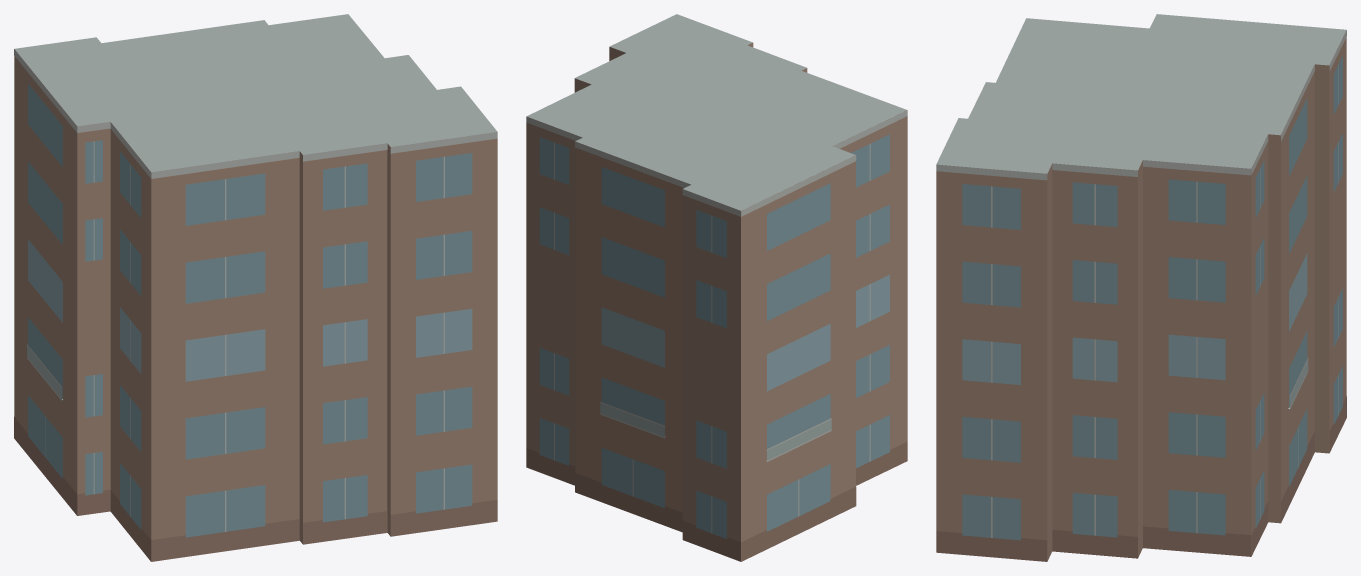
File: survey-upis-32617856.glb
3 renders of one model, left to right at view 1: azimuth 30°, elevation 25°; view 2: azimuth 150°, elevation 25°; view 3: azimuth 270°, elevation 25°, orthographic. The views are drawn at different scales.
Visible parts, largest first — view 1: survey-upis-32617856.tmp; view 2: survey-upis-32617856.tmp; view 3: survey-upis-32617856.tmp.
Part boxes in pixels (left/top/right/bottom): survey-upis-32617856.tmp: left=14, top=14, right=497, bottom=561; survey-upis-32617856.tmp: left=526, top=14, right=907, bottom=561; survey-upis-32617856.tmp: left=936, top=14, right=1346, bottom=561.
Size of the model in its own units: 12.64 by 14.3 by 13.72.
